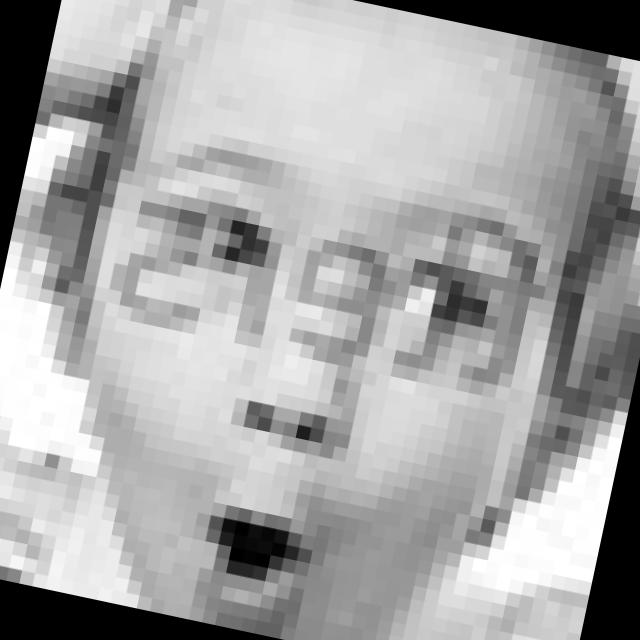surprise: (55, 125, 557, 640)
